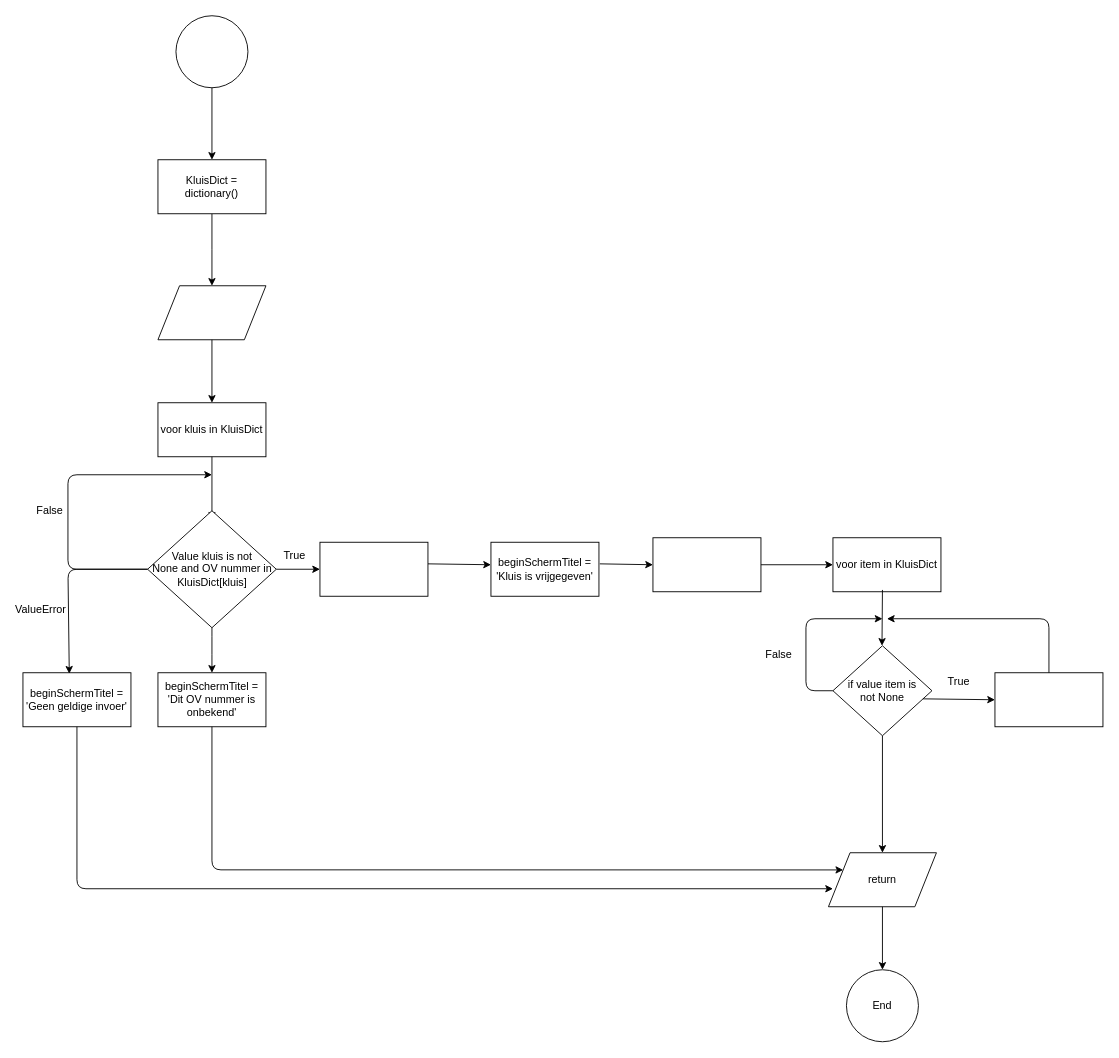
The diagram is 1119 pixels wide and 1058 high, and some of its shapes have lost their labels. The shapes that lost their labels are listed below. From the top down, each one's centre as x and y in pixels, then its label:
At point 211,51: "Start".
At point 211,312: "readFile Fietsen- Stalling".
At point 373,568: "KluisDict[kluis]=None".
At point 706,564: "readFile leegmaken".
At point 1048,699: "write item + inhoud item naar readfile".
